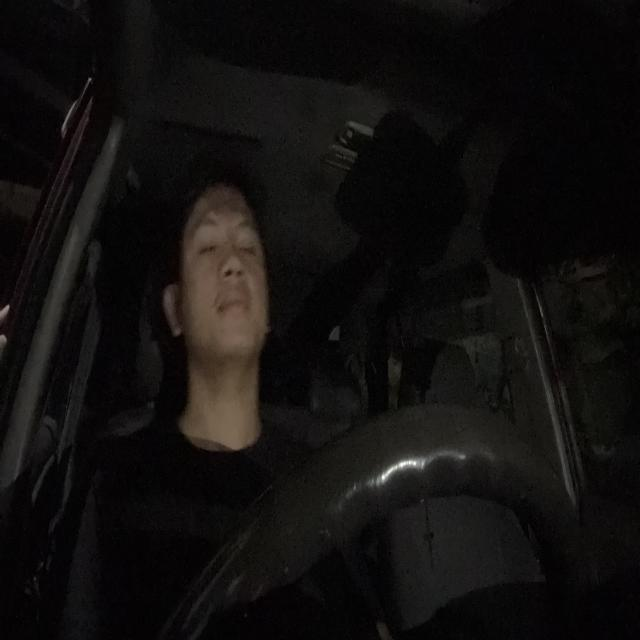close: (188, 217, 222, 265), (235, 218, 263, 269)
